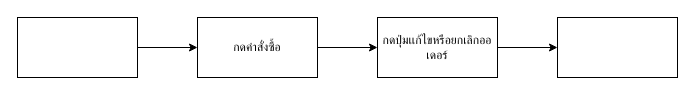
Some shapes in this 695 by 95 pixel diagram are drawn without their labels. The shapes that lost their labels are listed below. From the top down, each one's centre as x and y in pixels, then its label:
[77,47]: ยกเลิกออเดอร์
[617,47]: กดยกเลิกออเดอร์
